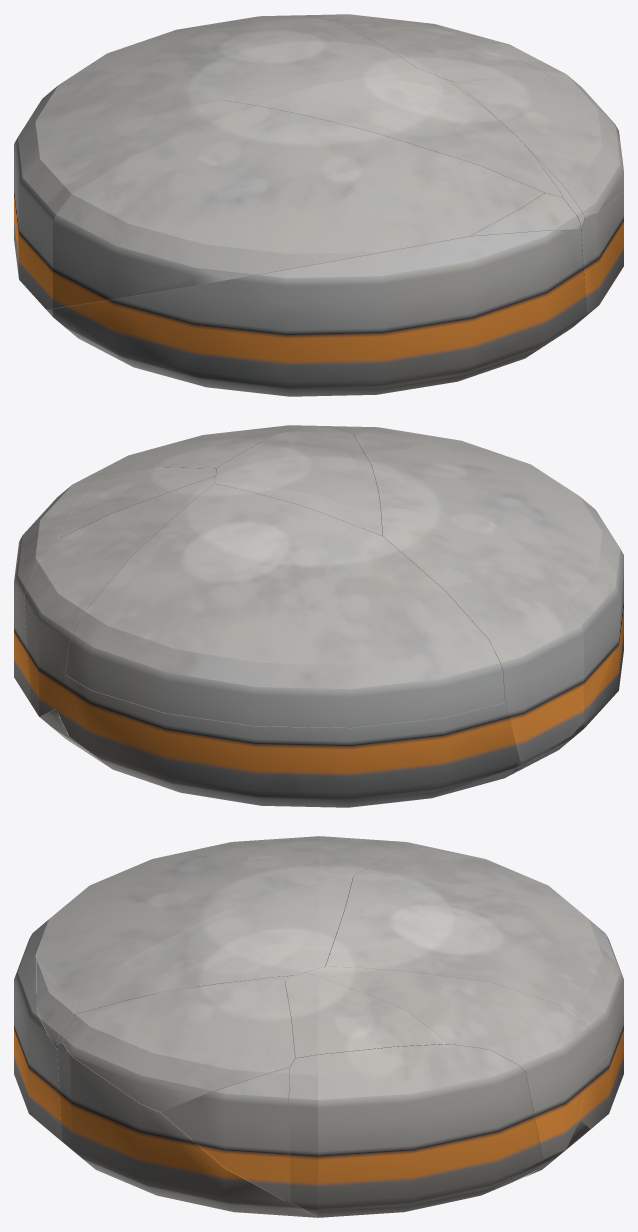
File: Broke_BasePod_EXP_1.fbx
3 renders of one model, top to bottom at view 1: azimuth 30°, elevation 25°; view 2: azimuth 150°, elevation 25°; view 3: azimuth 270°, elevation 25°, orthographic.
Visible parts, largest first — view 1: Pod_EXP_34, Pod_EXP_26, Pod_EXP_21, Pod_EXP_32, Pod_EXP_31, Pod_EXP_22, Pod_EXP_30, Pod_EXP_24, Pod_EXP_33, Pod_EXP_27, Pod_EXP_29; view 2: Pod_EXP_21, Pod_EXP_34, Pod_EXP_20, Pod_EXP_24, Pod_EXP_32, Pod_EXP_27, Pod_EXP_30, Pod_EXP_31, Pod_EXP_26; view 3: Pod_EXP_27, Pod_EXP_21, Pod_EXP_34, Pod_EXP_31, Pod_EXP_24, Pod_EXP_32, Pod_EXP_22, Pod_EXP_28, Pod_EXP_30, Pod_EXP_26, Pod_EXP_20, Pod_EXP_33 (+1 smaller).
Part boxes in pixels (<box>): Pod_EXP_34: <box>17,100,543,309</box>; Pod_EXP_26: <box>47,230,586,396</box>; Pod_EXP_21: <box>14,15,416,206</box>; Pod_EXP_32: <box>221,68,562,197</box>; Pod_EXP_31: <box>457,76,623,215</box>; Pod_EXP_22: <box>569,191,623,329</box>; Pod_EXP_30: <box>436,31,555,82</box>; Pod_EXP_24: <box>301,14,448,75</box>; Pod_EXP_33: <box>459,193,580,238</box>; Pod_EXP_27: <box>427,23,591,97</box>; Pod_EXP_29: <box>446,79,584,228</box>; Pod_EXP_21: <box>65,484,505,727</box>; Pod_EXP_34: <box>335,427,623,775</box>; Pod_EXP_20: <box>56,675,519,807</box>; Pod_EXP_24: <box>24,476,215,716</box>; Pod_EXP_32: <box>214,426,382,535</box>; Pod_EXP_27: <box>14,474,104,702</box>; Pod_EXP_30: <box>58,467,216,538</box>; Pod_EXP_31: <box>99,425,309,474</box>; Pod_EXP_26: <box>461,440,623,774</box>; Pod_EXP_27: <box>289,1044,542,1217</box>; Pod_EXP_21: <box>325,846,623,1072</box>; Pod_EXP_34: <box>36,836,427,1002</box>; Pod_EXP_31: <box>62,980,294,1111</box>; Pod_EXP_24: <box>305,966,591,1183</box>; Pod_EXP_32: <box>72,876,353,1015</box>; Pod_EXP_22: <box>57,1043,318,1217</box>; Pod_EXP_28: <box>160,1067,290,1201</box>; Pod_EXP_30: <box>285,973,448,1058</box>; Pod_EXP_26: <box>14,920,85,1161</box>; Pod_EXP_20: <box>579,1012,623,1137</box>; Pod_EXP_33: <box>36,961,78,1049</box>.
Bounding box in the file's own units: 38.02 × 13.38 × 38.02.
